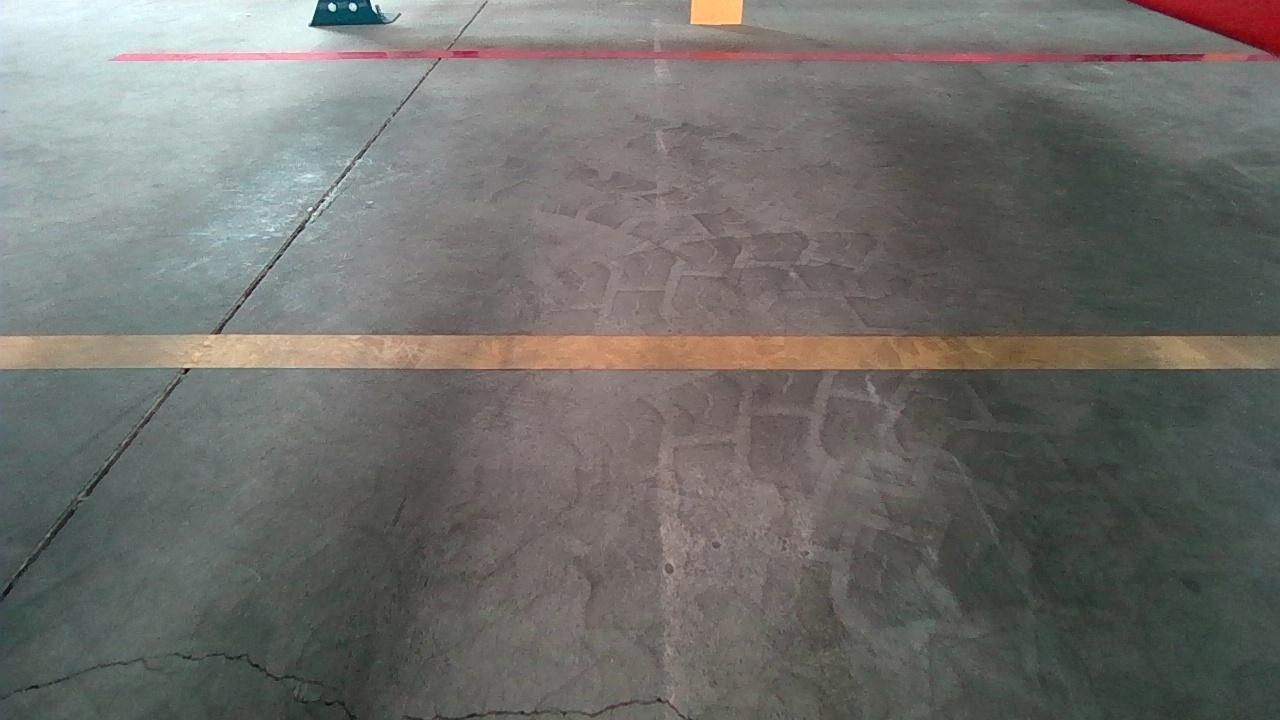orange_strip: (690, 0, 744, 26)
red_line: (108, 52, 1280, 65)
yellow_line: (0, 333, 1280, 370)
